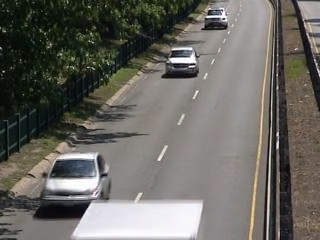car: (39, 148, 115, 206), (165, 45, 202, 79), (199, 5, 232, 32)
